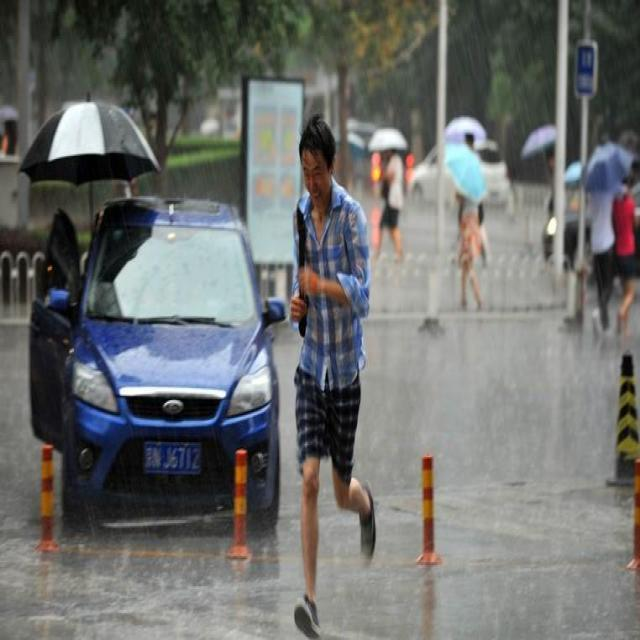car: (28, 194, 284, 534), (404, 136, 511, 212)
